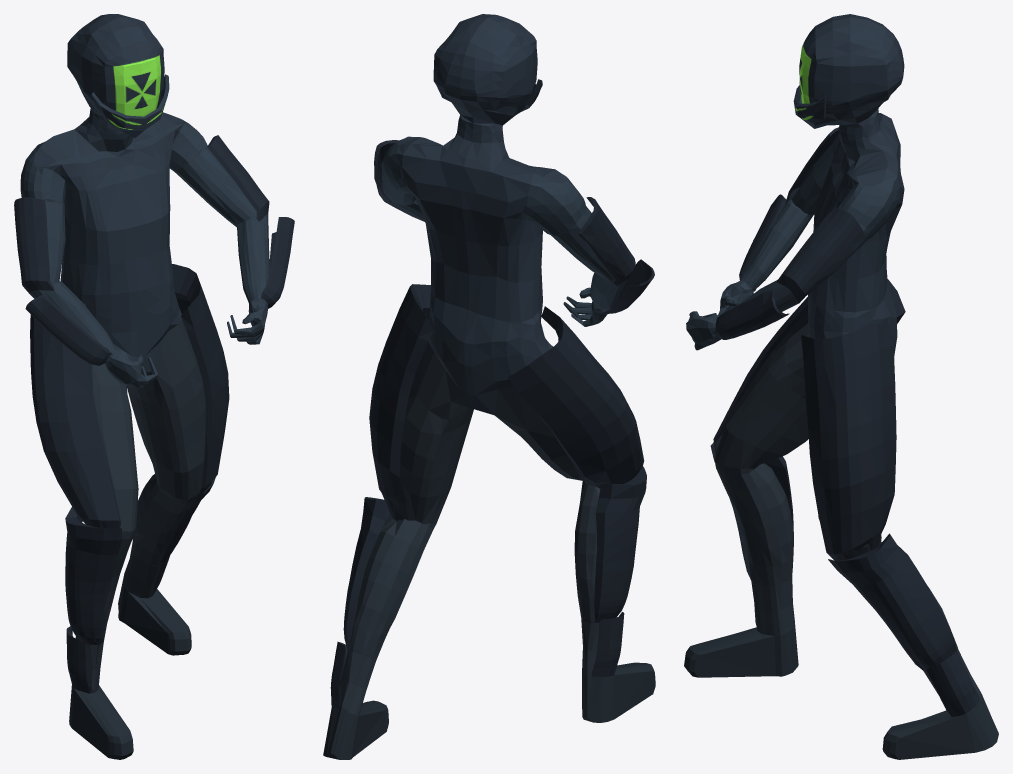
The model's file is Bastion_Stun_Recover_000020.obj.
3 views of the same model, side by side, from view 1: azimuth 30°, elevation 25°; view 2: azimuth 150°, elevation 25°; view 3: azimuth 270°, elevation 25° (orthographic). The views are drawn at different scales.
Parts seen in each view (by area): view 1: Cube.002; view 2: Cube.002; view 3: Cube.002.
Part boxes in pixels (bbox=[...]): Cube.002: bbox=[14, 14, 294, 759]; Cube.002: bbox=[323, 14, 655, 759]; Cube.002: bbox=[684, 14, 998, 759].
Bounding box in the file's own units: 1.53 × 3.72 × 1.53.
